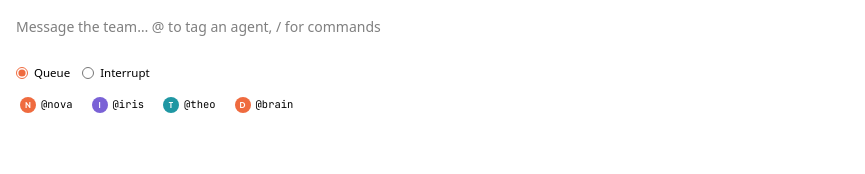
it: Domain composer › a mention chip per agent appends its handle, with a space when needed
Step 1. Click the button "T @theo" → (192, 105), box [159,92,224,118]
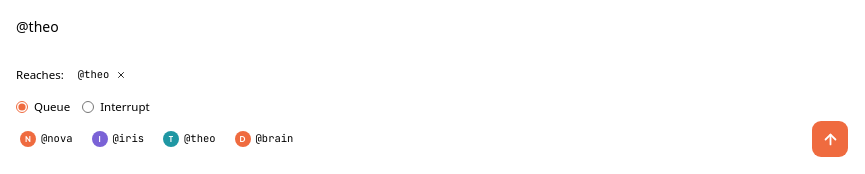
Expected: the text box named "Message" holds "@theo "
Step 2. Type "and" into the text box named "Message" → (432, 37), box [16,16,848,58]
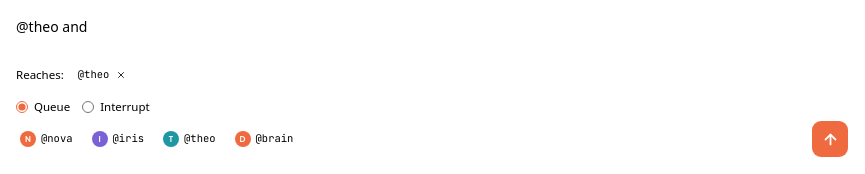
Step 3. Click the button "I @iris" → (120, 139), box [88,126,153,152]
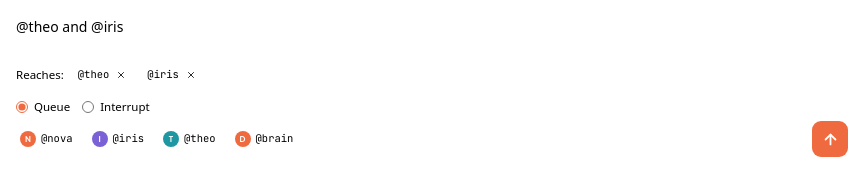
Expected: the text box named "Message" holds "@theo and @iris ", [16,16,848,58]
